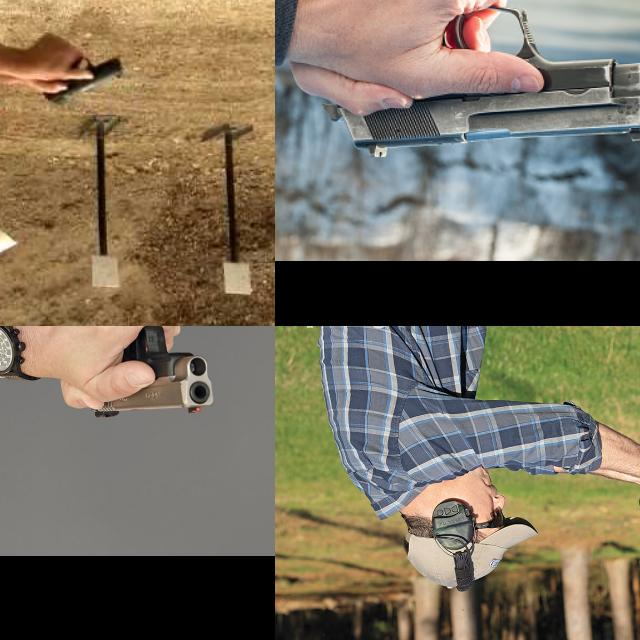handgun: (320, 2, 640, 161), (89, 326, 217, 421), (39, 54, 124, 110)
